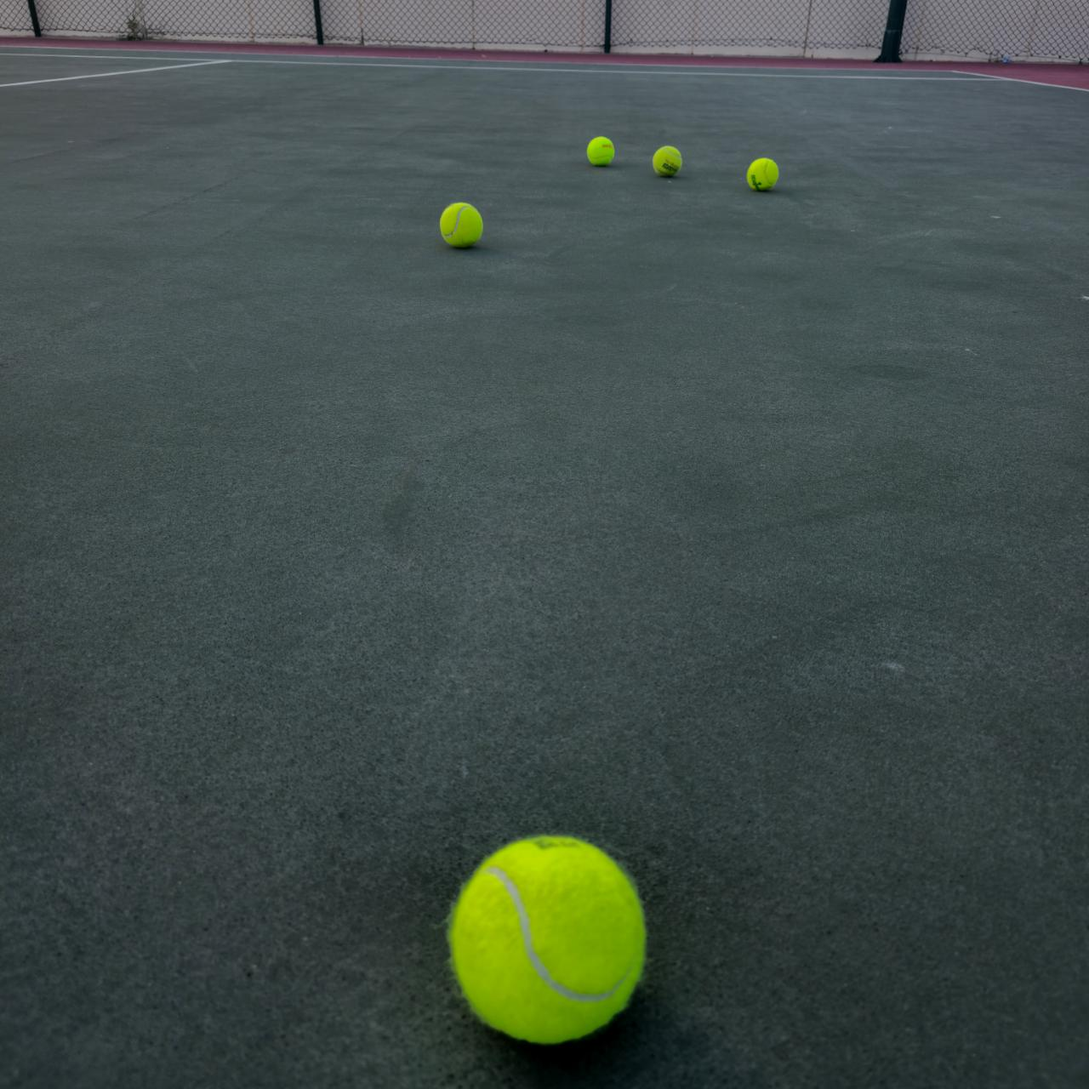tennis-ball: (447, 830, 650, 1047), (439, 201, 485, 248), (746, 157, 779, 191), (652, 145, 683, 177), (586, 137, 615, 166)
